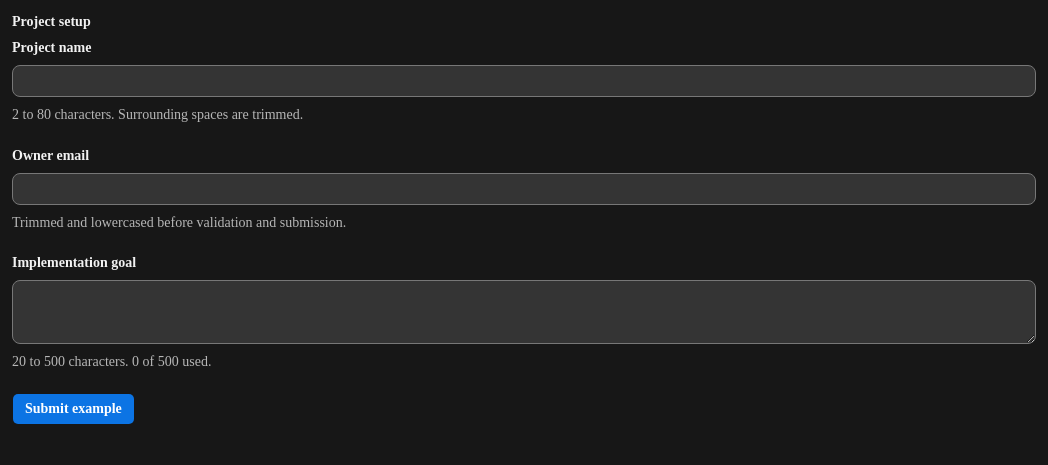
ReferenceForm — submission › maps a server field error onto its control, focuses it, and keeps the values
The image size is (1048, 465).
Type "Atlas" into the field labelled "Project name" at coordinates (524, 81), box [12,65,1036,97]
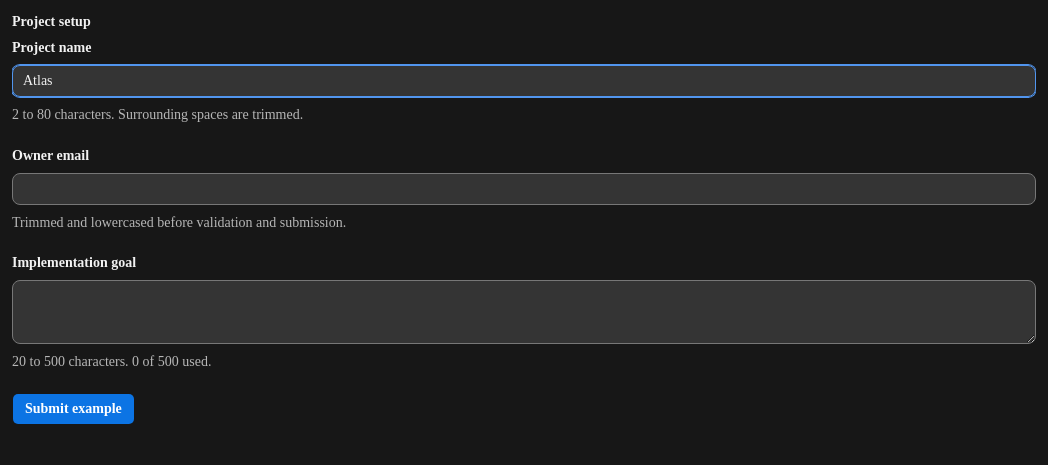
Type "taken@example.com" into the field labelled "Owner email" at coordinates (524, 189), box [12,173,1036,205]
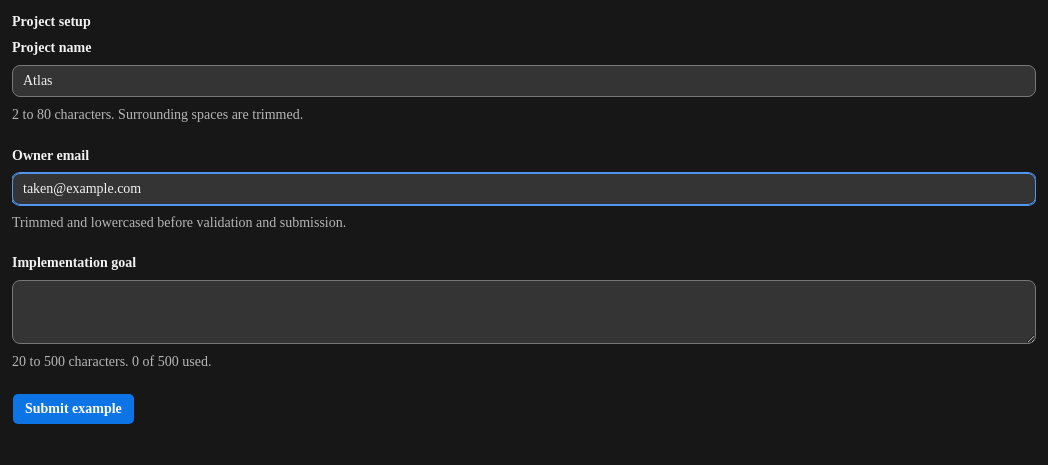
Type "Prove the reference wiring end to end." into the text box labelled "Implementation goal" at coordinates (524, 312), box [12,280,1036,344]
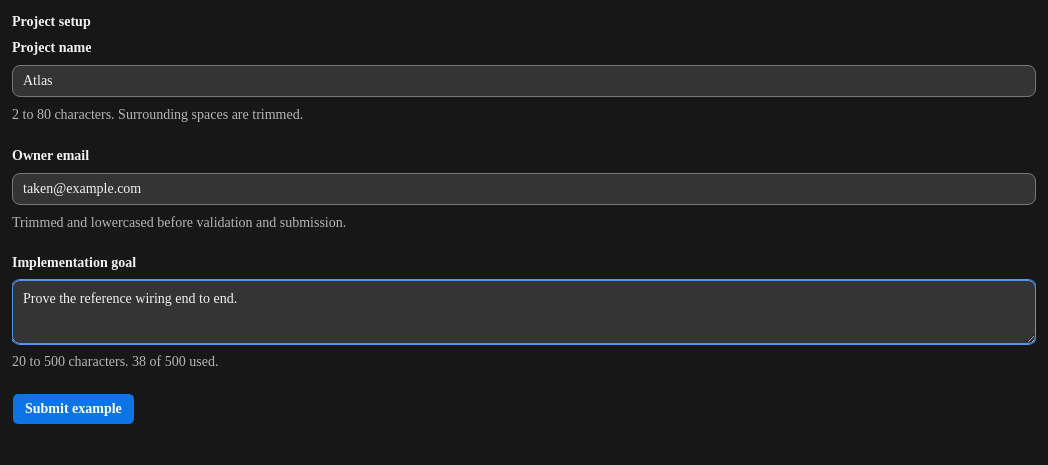
Click the button at coordinates (73, 409), box [12,393,135,425]
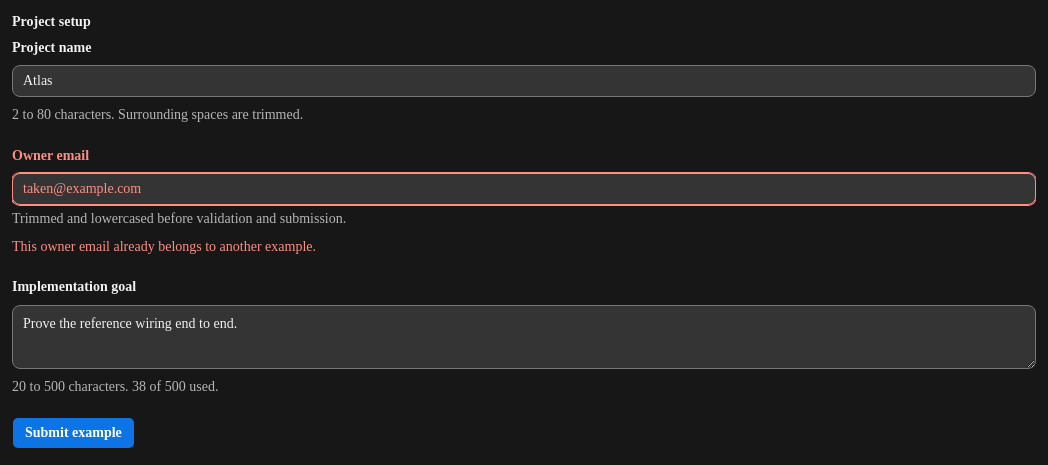
Now the text "This owner email already belongs to another example." is shown, box [12,239,316,254]
